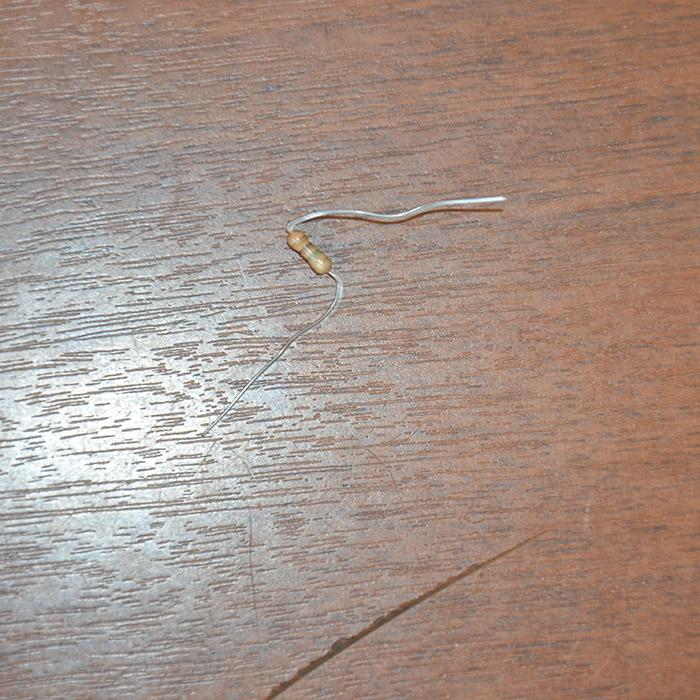resistor: (286, 229, 333, 276)
